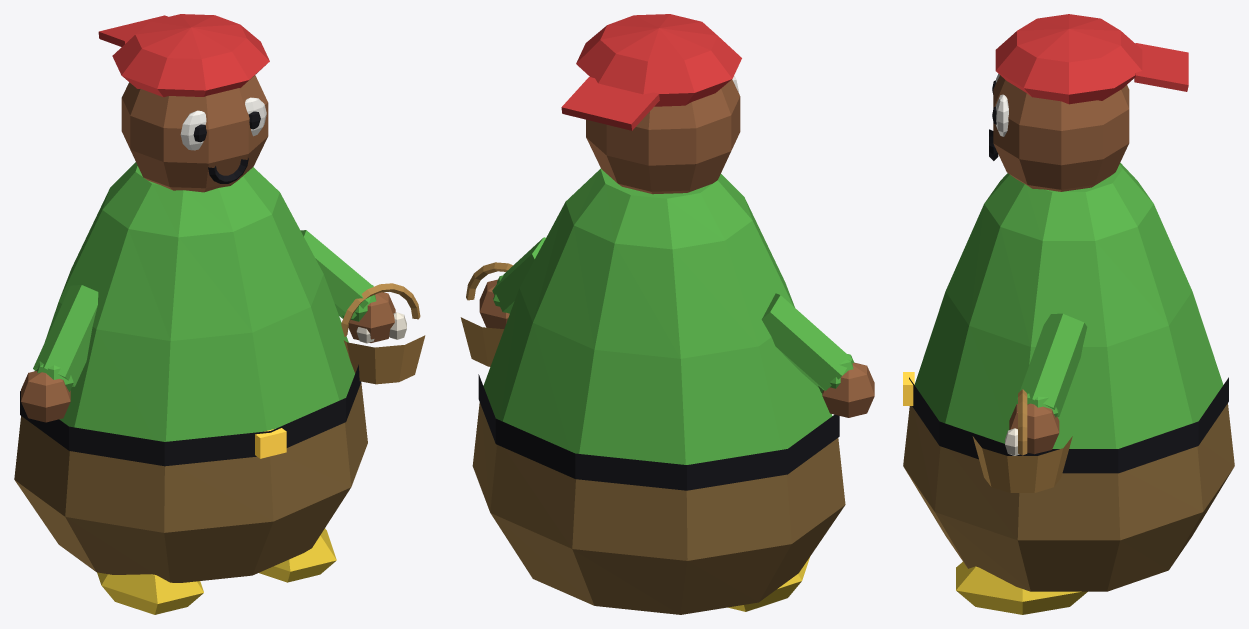
File: npc_pancho.glb
The picture shows the model from 3 angles, left to right: view 1: azimuth 30°, elevation 25°; view 2: azimuth 150°, elevation 25°; view 3: azimuth 270°, elevation 25°; orthographic projection. The views are drawn at different scales.
Parts seen in each view (by area): view 1: body_pancho_shirt, body_pancho_shorts, head_skin_cacao, cap_pancho_cap, body_black, arms_pancho_shirt, legs_rubber_boots_small, props_basket_wicker, arms_skin_cacao, face_white, face_black, body_gold; view 2: body_pancho_shirt, body_pancho_shorts, cap_pancho_cap, head_skin_cacao, body_black, arms_pancho_shirt, arms_skin_cacao, props_basket_wicker, legs_rubber_boots_small; view 3: body_pancho_shirt, body_pancho_shorts, cap_pancho_cap, head_skin_cacao, body_black, arms_pancho_shirt, props_basket_wicker, legs_rubber_boots_small, arms_skin_cacao, face_white.
Boxes of the visible parts, x1,y1,x2,y2 form: body_pancho_shirt: (45,162,354,441); body_pancho_shorts: (14,383,367,582); head_skin_cacao: (121,75,268,192); cap_pancho_cap: (98,14,269,97); body_black: (20,364,361,466); arms_pancho_shirt: (33,230,376,391); legs_rubber_boots_small: (97,528,336,614); props_basket_wicker: (341,283,425,384); arms_skin_cacao: (21,292,395,422); face_white: (180,97,266,150); face_black: (193,111,260,183); body_gold: (255,428,286,458); body_pancho_shirt: (483,168,832,464); body_pancho_shorts: (472,402,845,614); cap_pancho_cap: (561,14,741,130); head_skin_cacao: (586,79,740,194); body_black: (478,374,839,490); arms_pancho_shirt: (492,237,854,392); arms_skin_cacao: (479,279,874,417); props_basket_wicker: (460,262,512,366); legs_rubber_boots_small: (728,557,809,611); body_pancho_shirt: (914,163,1223,448); body_pancho_shorts: (903,403,1234,591); cap_pancho_cap: (995,14,1188,104); head_skin_cacao: (993,75,1129,191); body_black: (909,377,1228,473); arms_pancho_shirt: (1017,313,1087,417); props_basket_wicker: (972,389,1072,492); legs_rubber_boots_small: (956,562,1087,614); arms_skin_cacao: (1009,403,1059,454); face_white: (995,74,1008,136).
Size of the model in its own units: 1.19 by 1.56 by 0.86.
